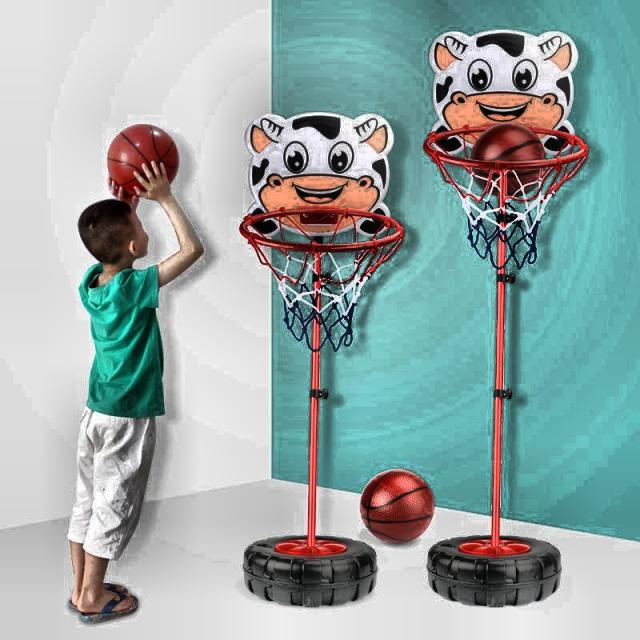board: (362, 468, 436, 544), (107, 123, 179, 192)
rim: (58, 167, 203, 625), (242, 210, 403, 347)
